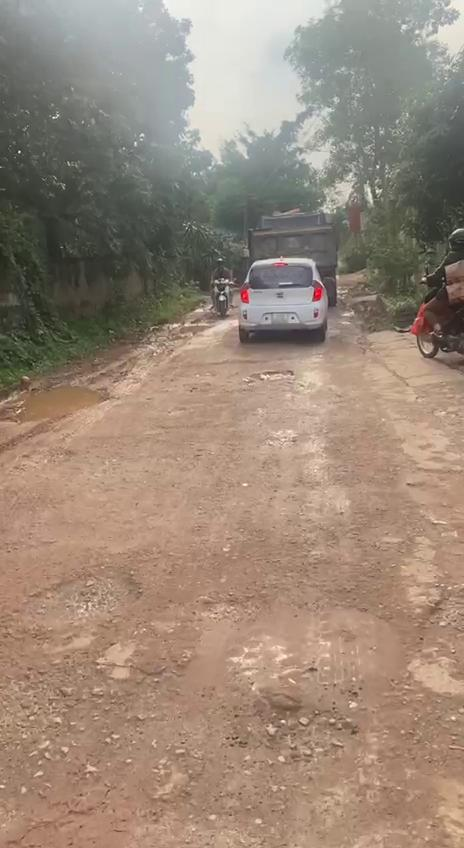pothole: (20, 562, 155, 636), (410, 597, 464, 769), (9, 380, 118, 428), (247, 368, 297, 386)
